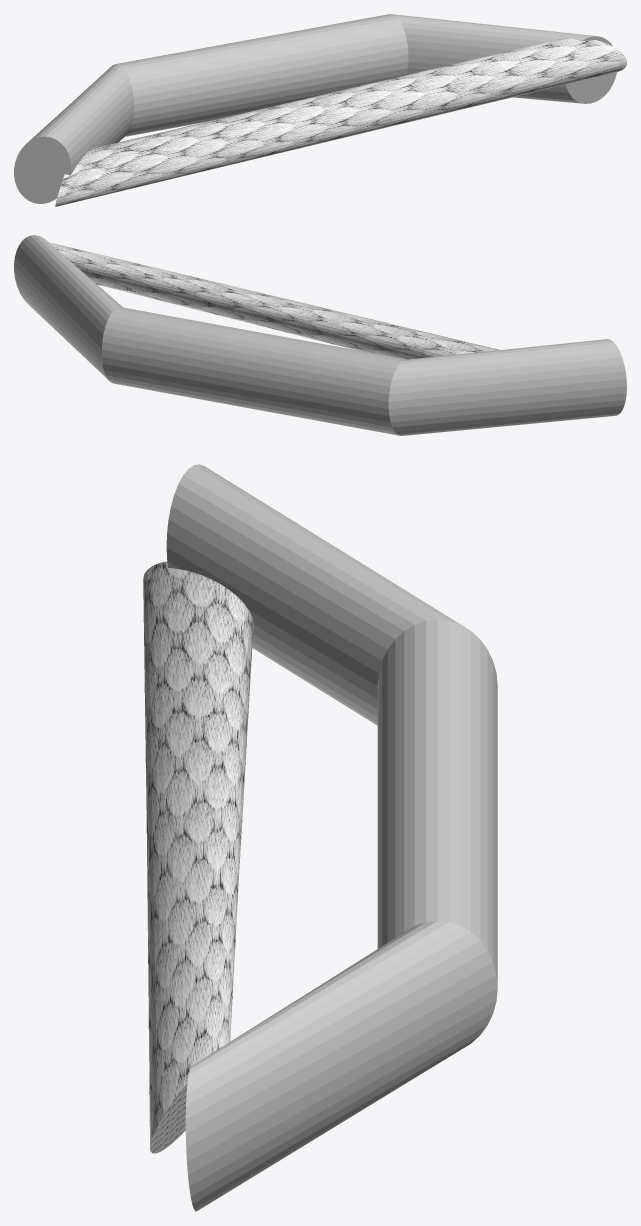
The model's file is Bow 1.fbx.
3 renders of one model, top to bottom at view 1: azimuth 30°, elevation 25°; view 2: azimuth 150°, elevation 25°; view 3: azimuth 270°, elevation 25°, orthographic. The views are drawn at different scales.
Visible parts, largest first — view 1: Cylinder, Cylinder.001; view 2: Cylinder, Cylinder.001; view 3: Cylinder, Cylinder.001.
Boxes of the visible parts, <box> form: Cylinder: <box>14,14,616,203</box>; Cylinder.001: <box>55,38,626,206</box>; Cylinder: <box>14,235,626,435</box>; Cylinder.001: <box>49,242,499,359</box>; Cylinder: <box>166,464,497,1211</box>; Cylinder.001: <box>143,561,253,1153</box>.
Bounding box in the file's own units: 503 × 82.72 × 130.
